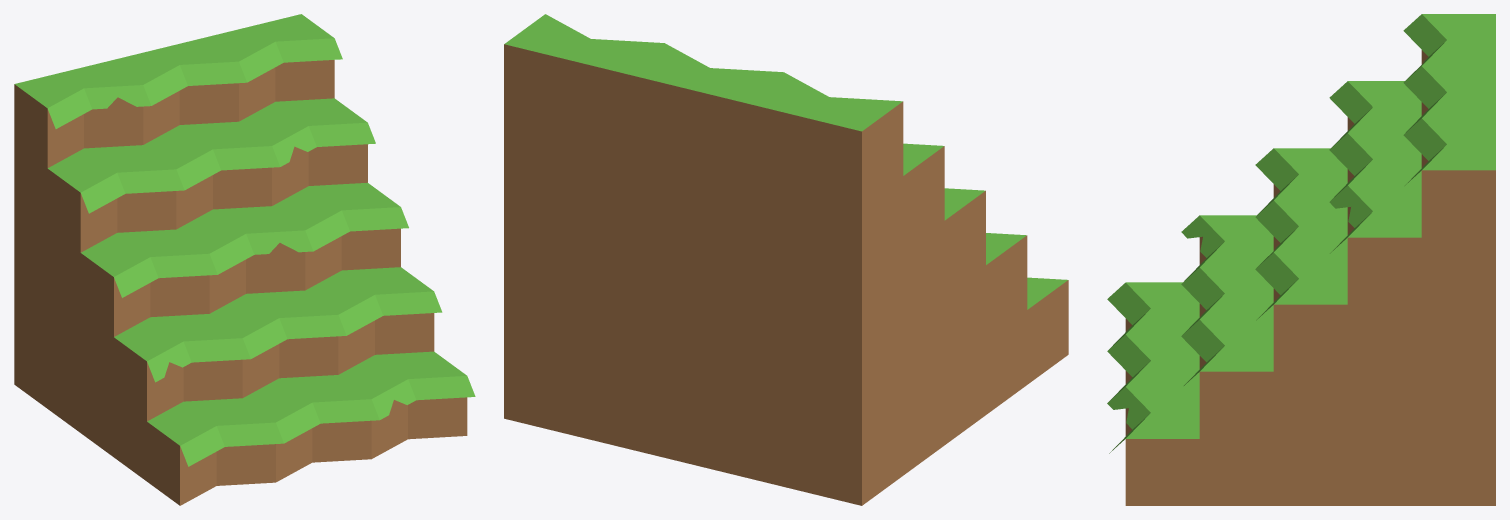
File: cliff-steps.glb
The picture shows the model from 3 angles, left to right: view 1: azimuth 30°, elevation 25°; view 2: azimuth 150°, elevation 25°; view 3: azimuth 270°, elevation 25°; orthographic projection. The views are drawn at different scales.
Parts seen in each view (by area): view 1: cliff_steps_rock; view 2: cliff_steps_rock; view 3: cliff_steps_rock.
Boxes of the visible parts, x1,y1,x2,y2 form: cliff_steps_rock: (14, 14, 475, 505); cliff_steps_rock: (504, 14, 1068, 505); cliff_steps_rock: (1107, 14, 1495, 505).
Bounding box in the file's own units: 4 × 4 × 4.2.
